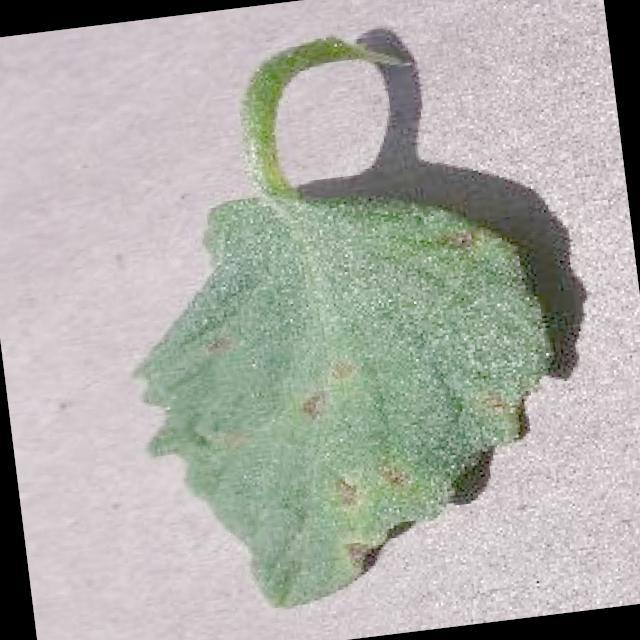Tomato Septoria spot leaf: (106, 159, 576, 629)
